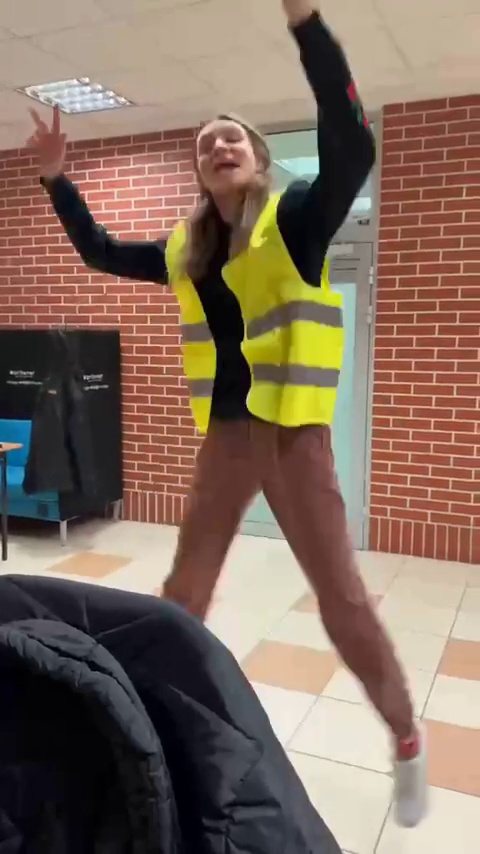vest: (154, 175, 435, 757)
